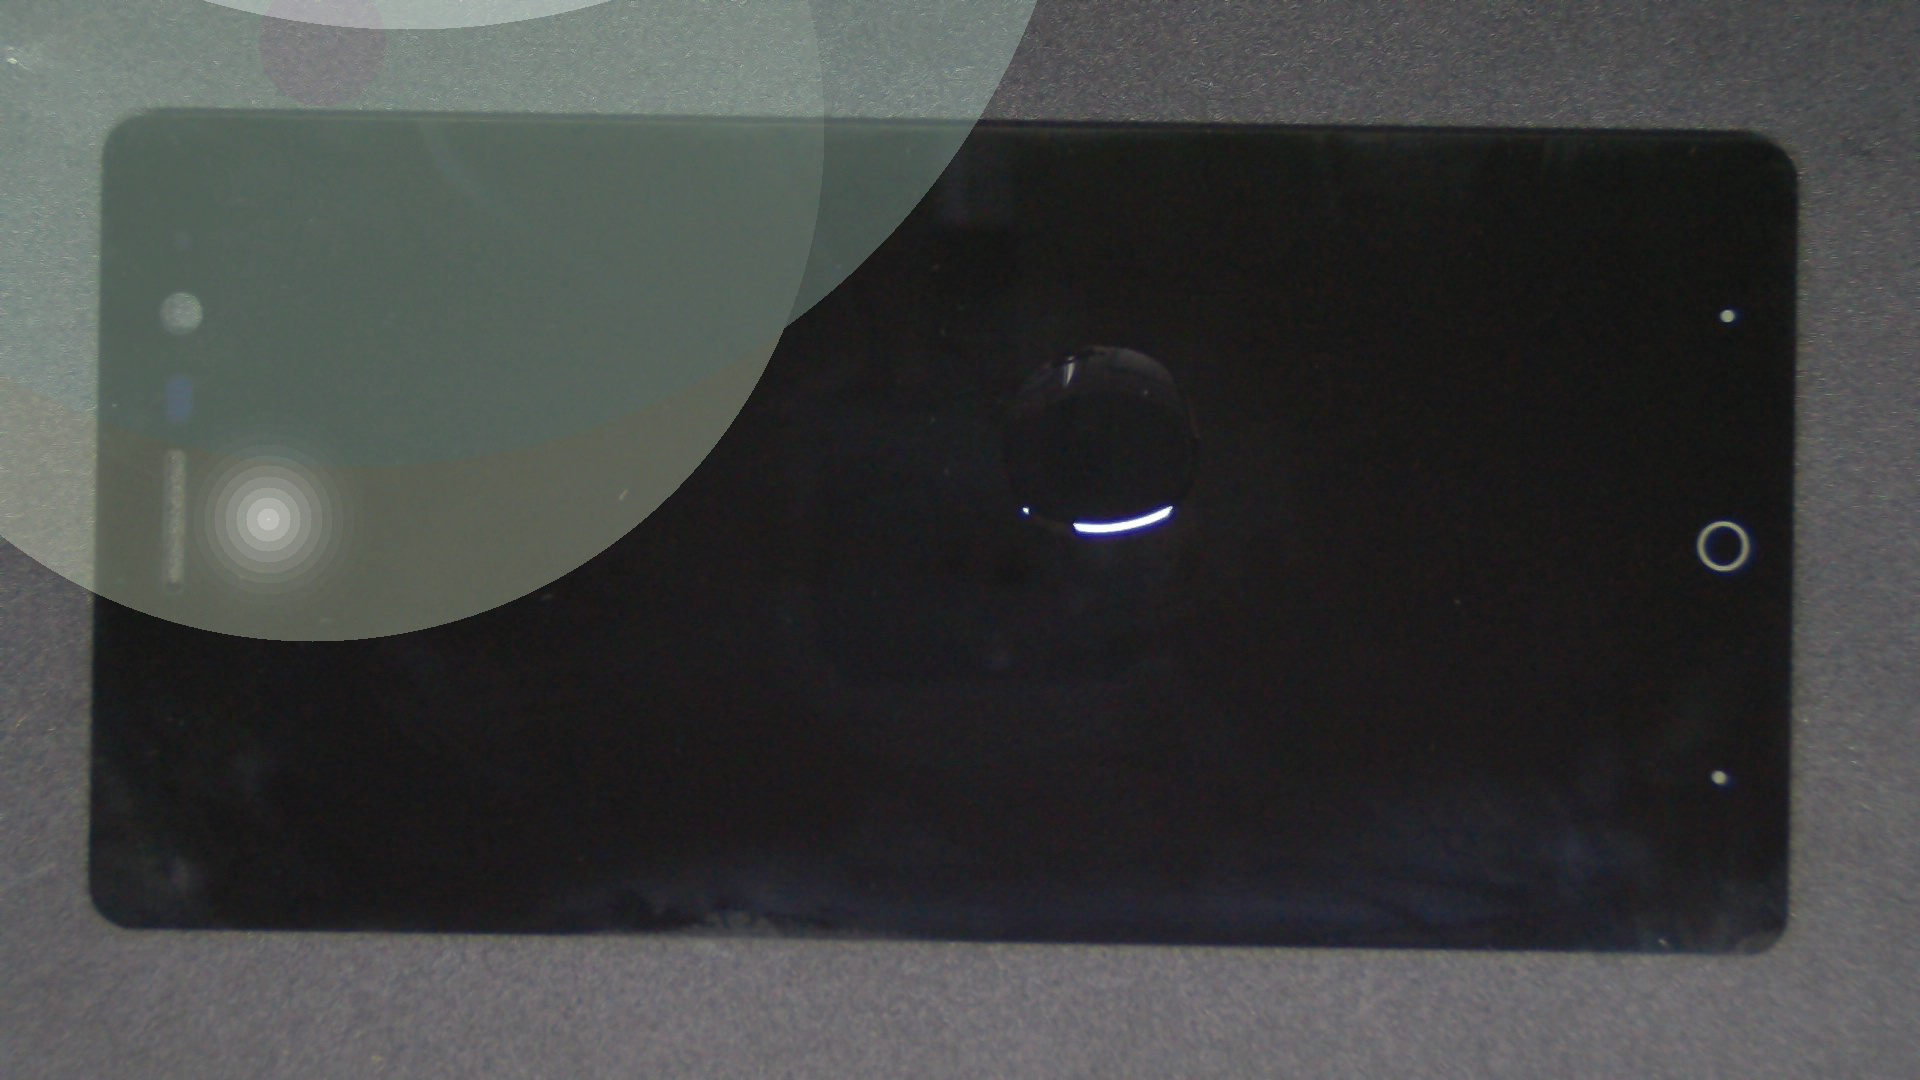oil: (542, 173, 1625, 520)
